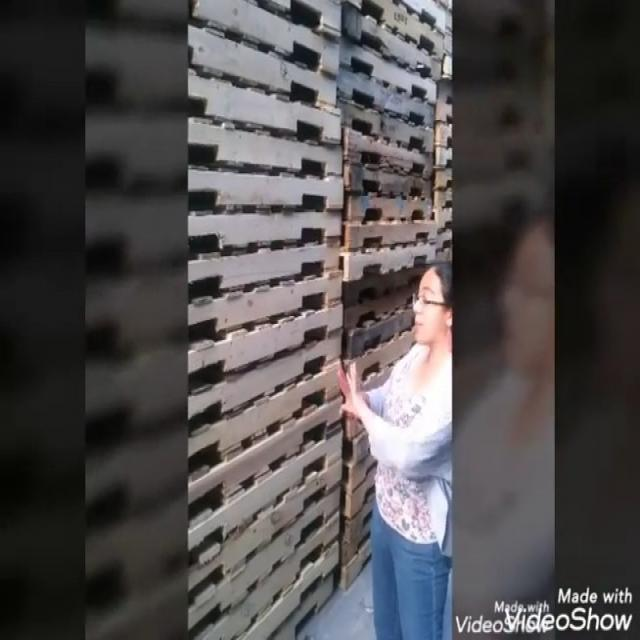Palette: (183, 0, 342, 640), (342, 0, 460, 264)
